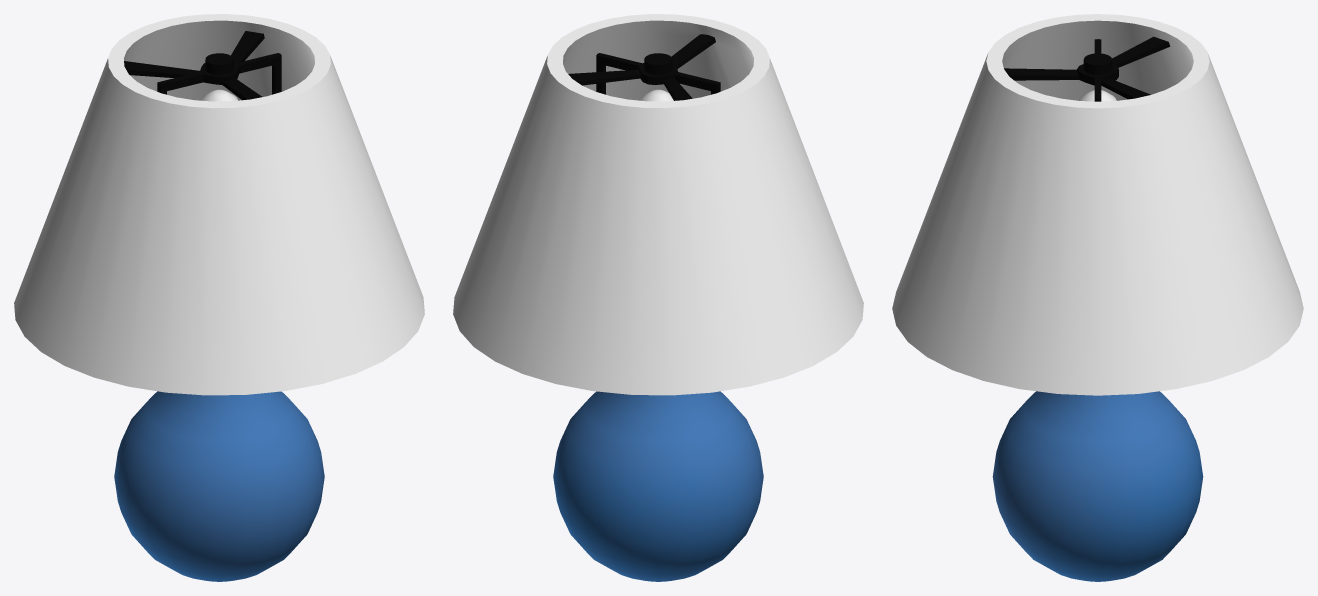
The model's file is Lamp.fbx.
3 renders of one model, left to right at view 1: azimuth 30°, elevation 25°; view 2: azimuth 150°, elevation 25°; view 3: azimuth 270°, elevation 25°, orthographic.
Visible parts, largest first — view 1: Lamp; view 2: Lamp; view 3: Lamp.
Part boxes in pixels (x1,y1,x2,y2): Lamp: [14, 14, 424, 581]; Lamp: [453, 14, 863, 581]; Lamp: [892, 14, 1303, 581].
Bounding box in the file's own units: 0.3911 × 0.3911 × 0.5359.
